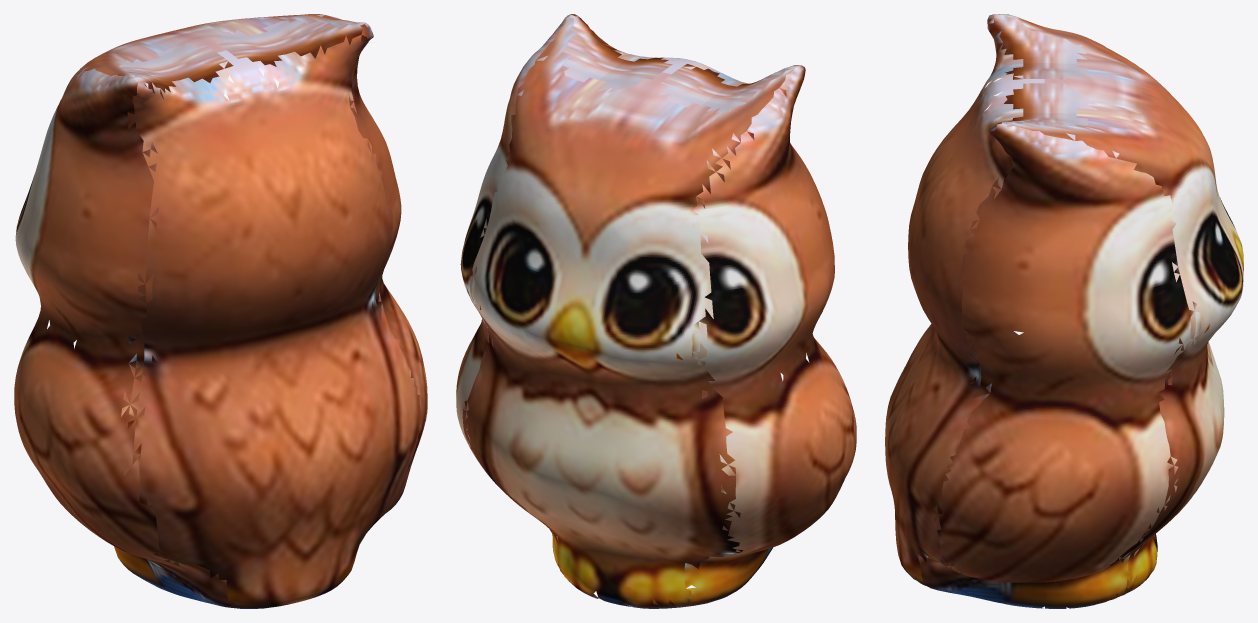
Rendered from Hibou.glb.
3 renders of one model, left to right at view 1: azimuth 30°, elevation 25°; view 2: azimuth 150°, elevation 25°; view 3: azimuth 270°, elevation 25°, orthographic. The views are drawn at different scales.
Parts seen in each view (by area): view 1: Hibou; view 2: Hibou; view 3: Hibou.
Boxes of the visible parts, x1=… form: Hibou: x1=14, y1=14, x2=427, y2=608; Hibou: x1=456, y1=14, x2=856, y2=608; Hibou: x1=885, y1=14, x2=1243, y2=608.
Bounding box in the file's own units: 2.95 × 4.08 × 2.61.
1 material, 1 textured.
